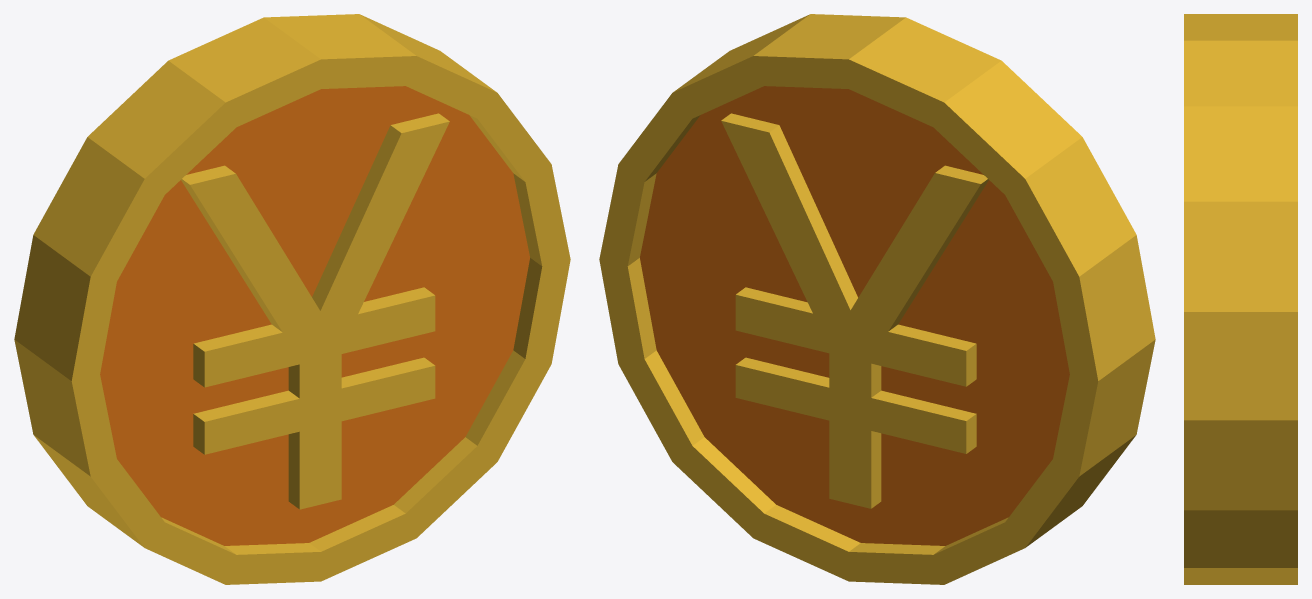
File: Yen.fbx
3 renders of one model, left to right at view 1: azimuth 30°, elevation 25°; view 2: azimuth 150°, elevation 25°; view 3: azimuth 270°, elevation 25°, orthographic.
Visible parts, largest first — view 1: Yen; view 2: Yen; view 3: Yen.
Part boxes in pixels (box(x1,y1,x2,y2)): Yen: box(14, 14, 570, 584); Yen: box(599, 14, 1155, 584); Yen: box(1184, 14, 1297, 584).
Bounding box in the file's own units: 84.1 × 84.1 × 16.74.
